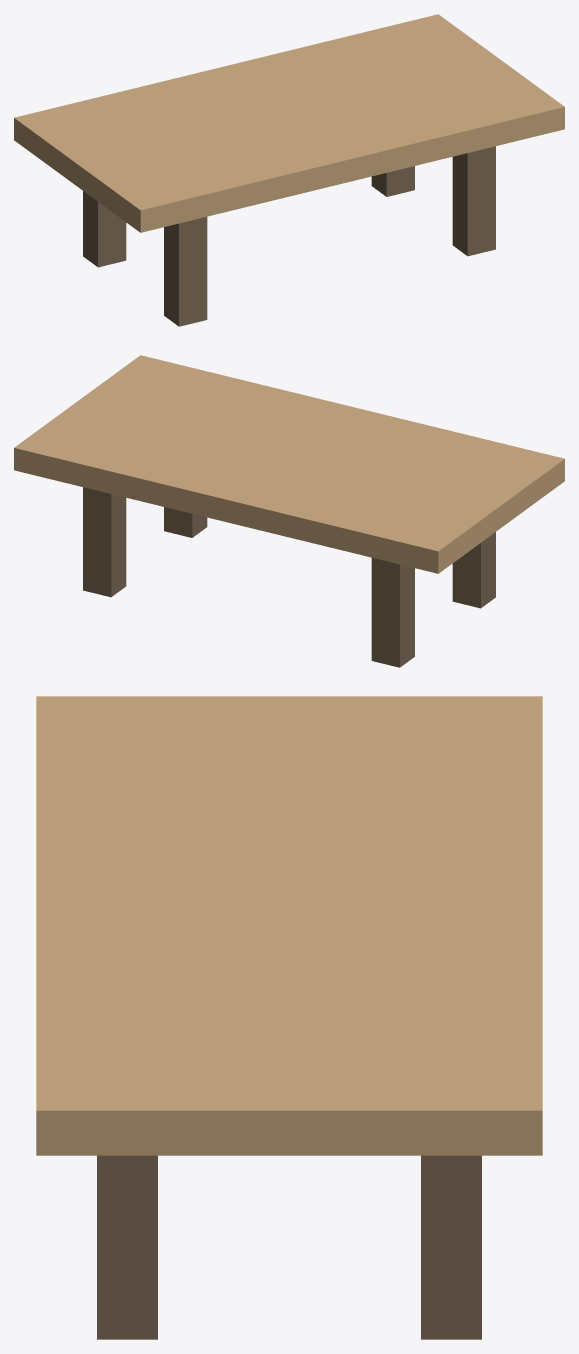
The model's file is catalog-table-oak-120.gltf.
3 views of the same model, one above another, from view 1: azimuth 30°, elevation 25°; view 2: azimuth 150°, elevation 25°; view 3: azimuth 270°, elevation 25° (orthographic). The views are drawn at different scales.
Parts seen in each view (by area): view 1: Top, Leg-11, Leg11, Leg-1-1, Leg1-1; view 2: Top, Leg-1-1, Leg1-1, Leg-11, Leg11; view 3: Top, Leg1-1, Leg11.
Boxes of the visible parts, x1,y1,x2,y2 form: Top: [14, 14, 564, 232]; Leg-11: [164, 216, 207, 326]; Leg11: [452, 146, 495, 256]; Leg-1-1: [83, 191, 126, 267]; Leg1-1: [371, 166, 414, 196]; Top: [14, 355, 564, 573]; Leg-1-1: [371, 557, 414, 667]; Leg1-1: [83, 487, 126, 597]; Leg-11: [452, 532, 495, 608]; Leg11: [164, 507, 207, 537]; Top: [36, 696, 542, 1155]; Leg1-1: [421, 1155, 481, 1339]; Leg11: [97, 1155, 157, 1339].
Size of the model in its own units: 1.2 by 0.38 by 0.62.
